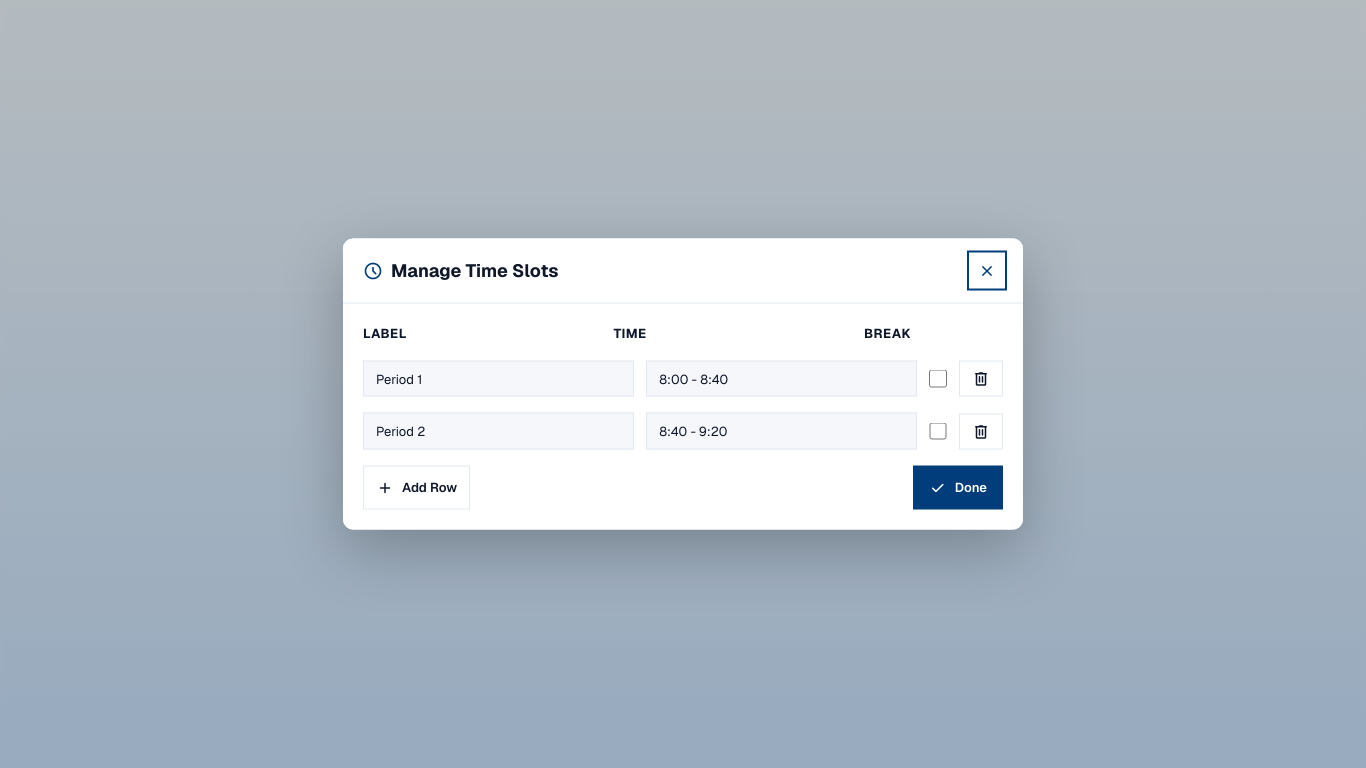
Test case: PeriodManager › cancels a pending delete
Click the 1st button titled "Remove row" at (981, 379), box [959, 361, 1003, 397]
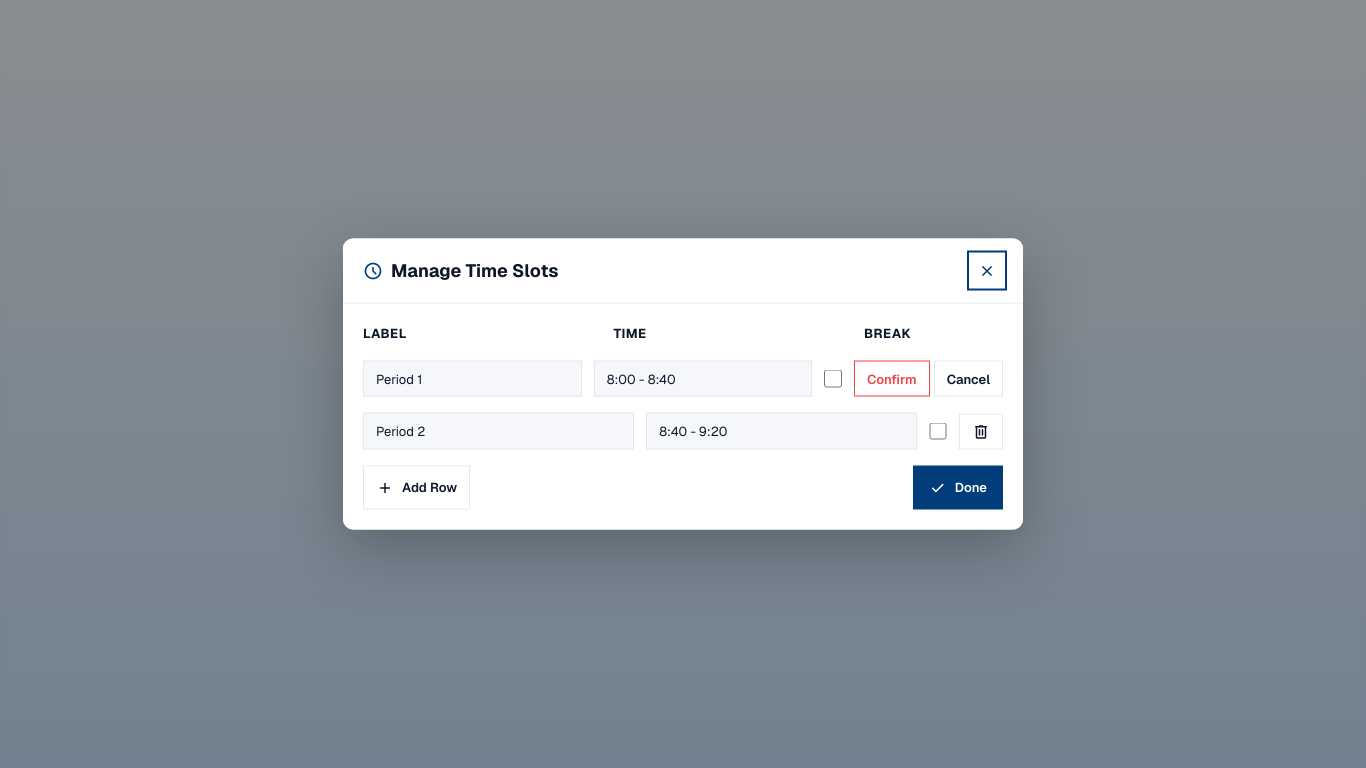
Click the button "Cancel" at (968, 379), box [934, 361, 1003, 397]
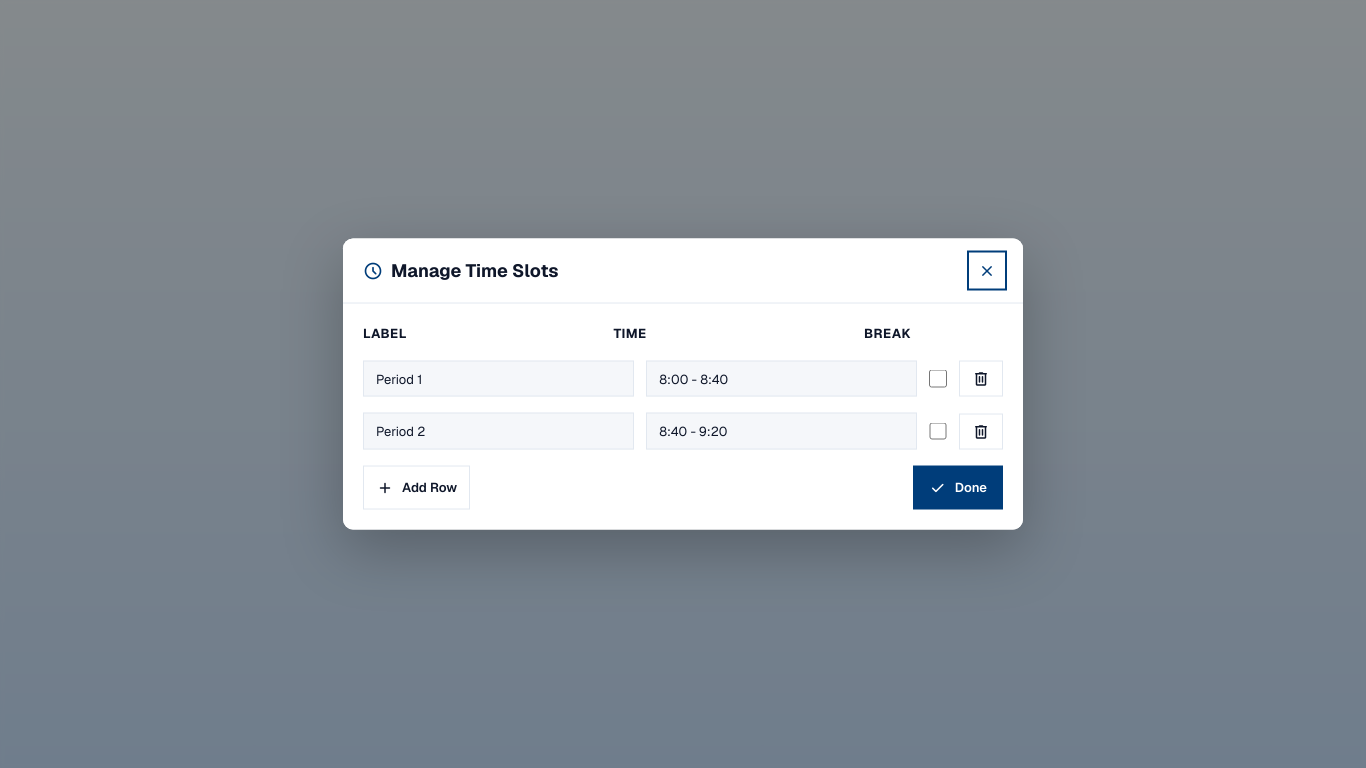
Expected: the number of buttons titled "Remove row" is 2, [959, 361, 1003, 397]; [959, 413, 1003, 449]
